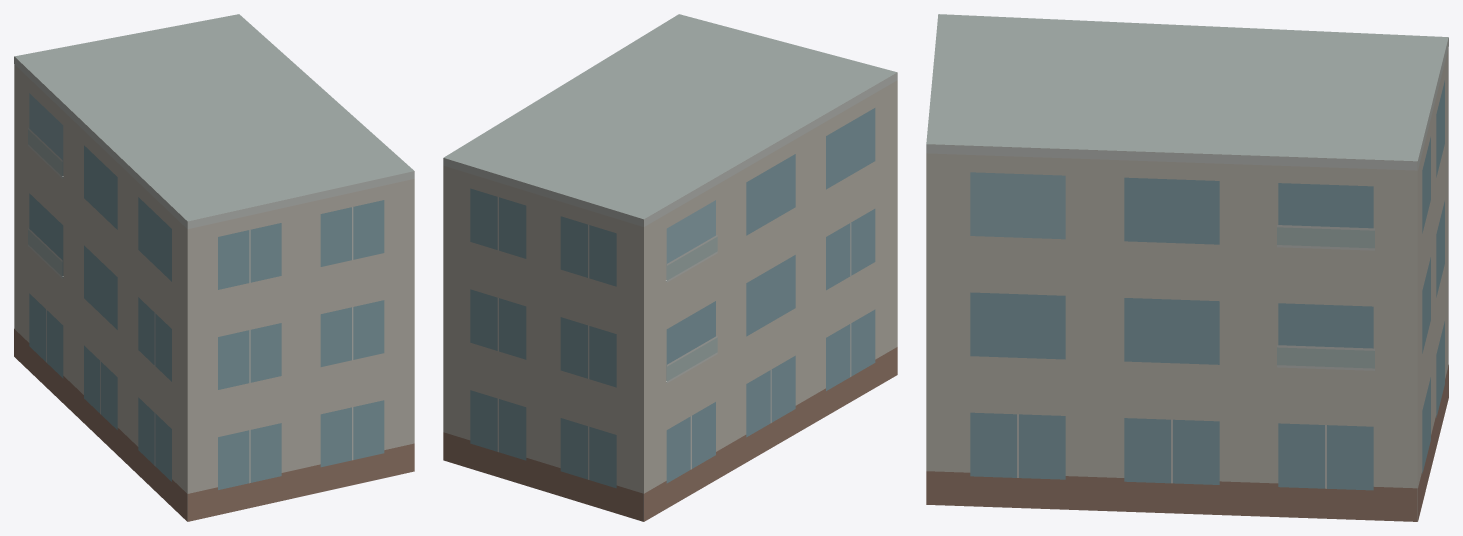
The model's file is survey-upis-32638258.glb.
3 renders of one model, left to right at view 1: azimuth 30°, elevation 25°; view 2: azimuth 150°, elevation 25°; view 3: azimuth 270°, elevation 25°, orthographic. The views are drawn at different scales.
Parts seen in each view (by area): view 1: survey-upis-32638258.tmp; view 2: survey-upis-32638258.tmp; view 3: survey-upis-32638258.tmp.
Part boxes in pixels (left/top/right/bottom): survey-upis-32638258.tmp: left=14, top=14, right=414, bottom=521; survey-upis-32638258.tmp: left=443, top=14, right=897, bottom=521; survey-upis-32638258.tmp: left=926, top=14, right=1448, bottom=521.
Bounding box in the file's own units: 8.29 × 9.45 × 12.42.
